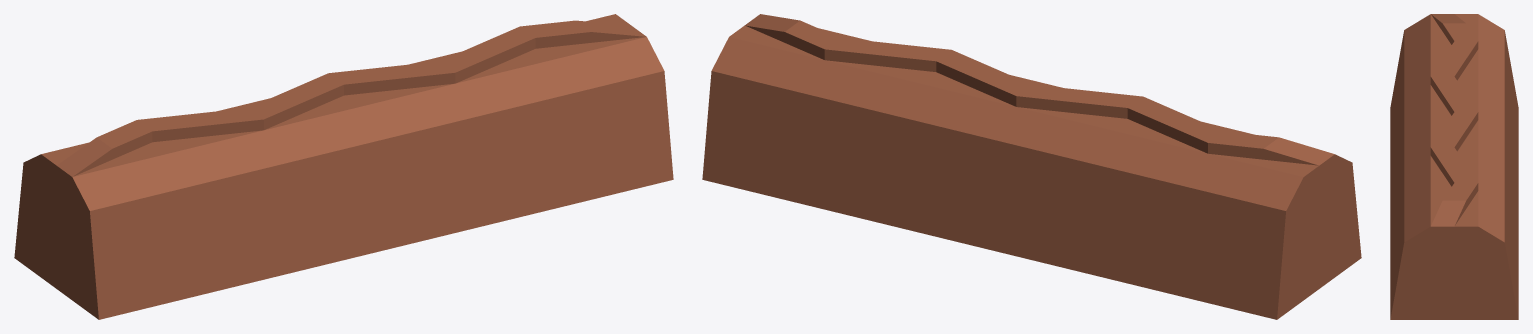
Rendered from candyBar.obj.
3 views of the same model, side by side, from view 1: azimuth 30°, elevation 25°; view 2: azimuth 150°, elevation 25°; view 3: azimuth 270°, elevation 25° (orthographic). The views are drawn at different scales.
Parts seen in each view (by area): view 1: candyBar; view 2: candyBar; view 3: candyBar.
Boxes of the visible parts, left/top/right/bottom form: candyBar: left=14, top=14, right=673, bottom=319; candyBar: left=702, top=14, right=1361, bottom=319; candyBar: left=1390, top=14, right=1518, bottom=319.
Size of the model in its own units: 0.2924 by 0.0653 by 0.0745.
